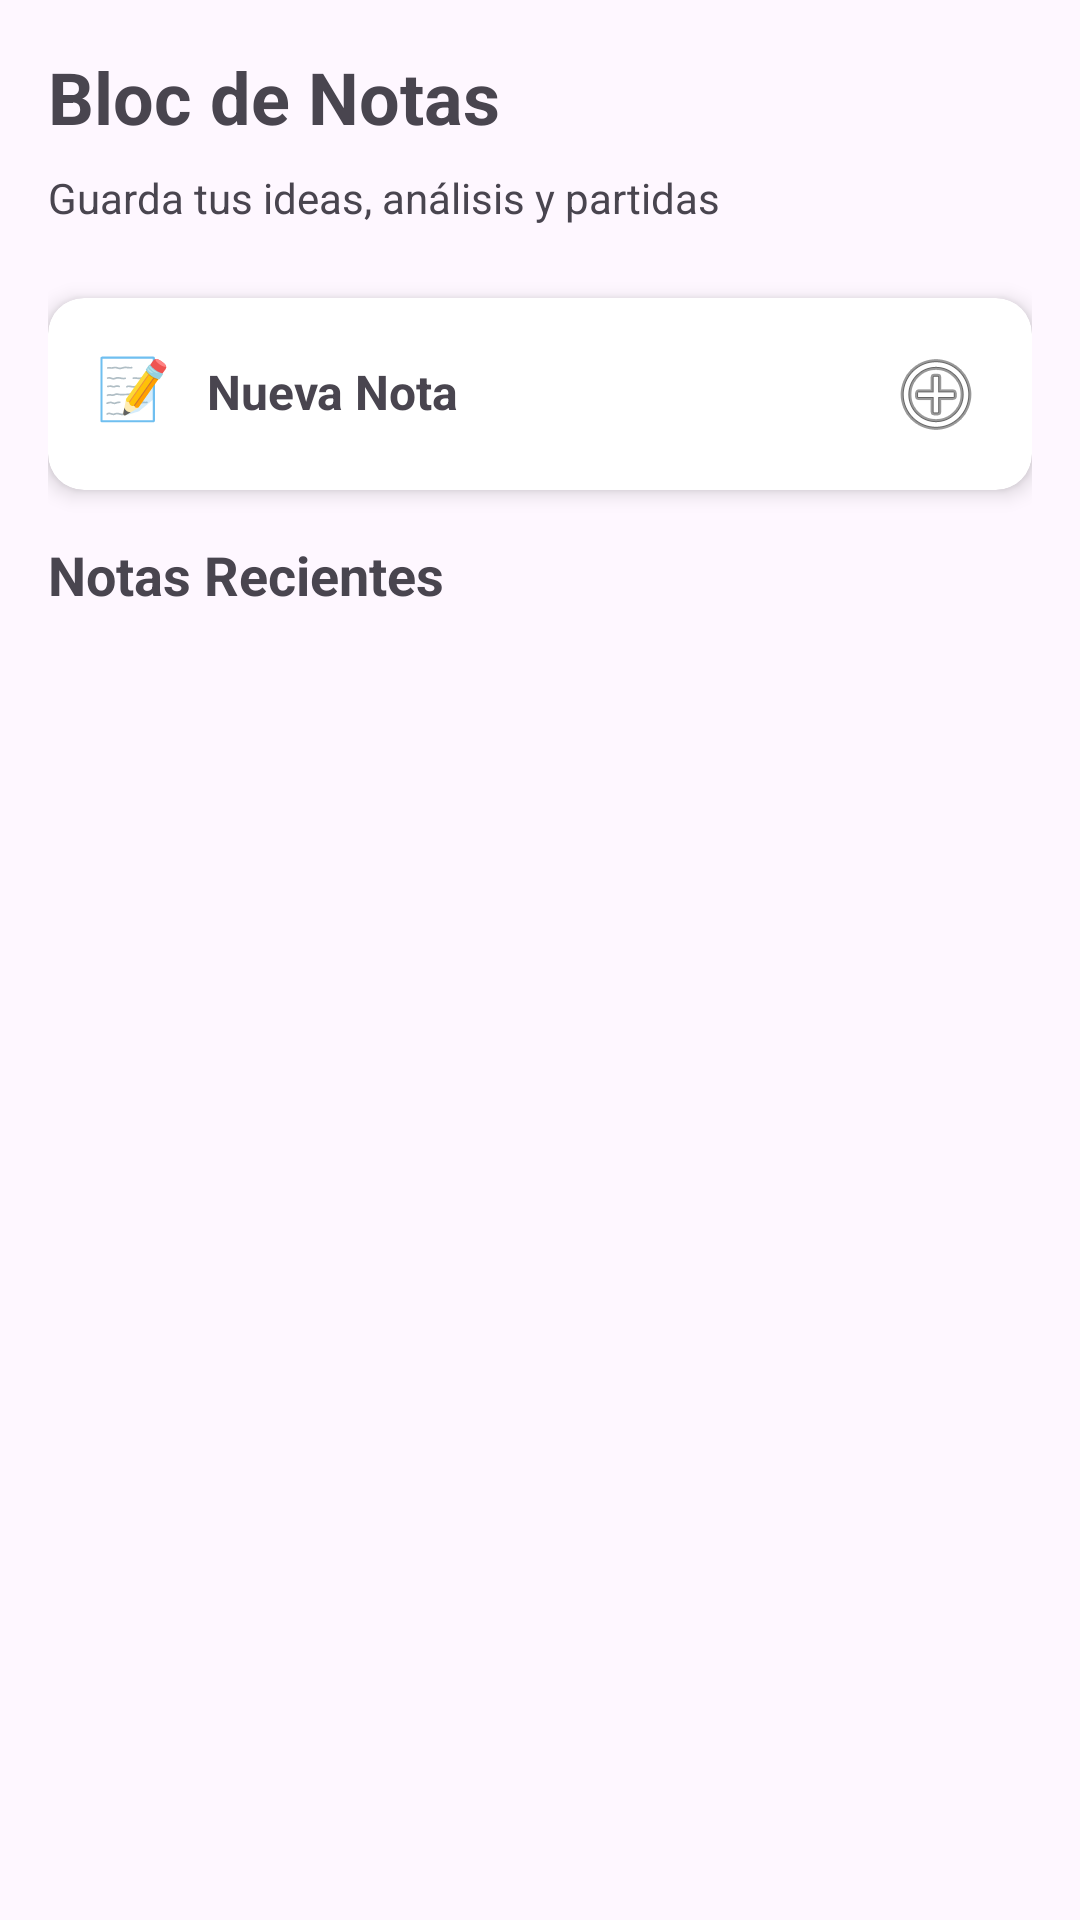

Icons on this 1080×1920 Android screen, each with its box as (x1, y1, x2, y2):
add: (900, 359, 972, 430)
